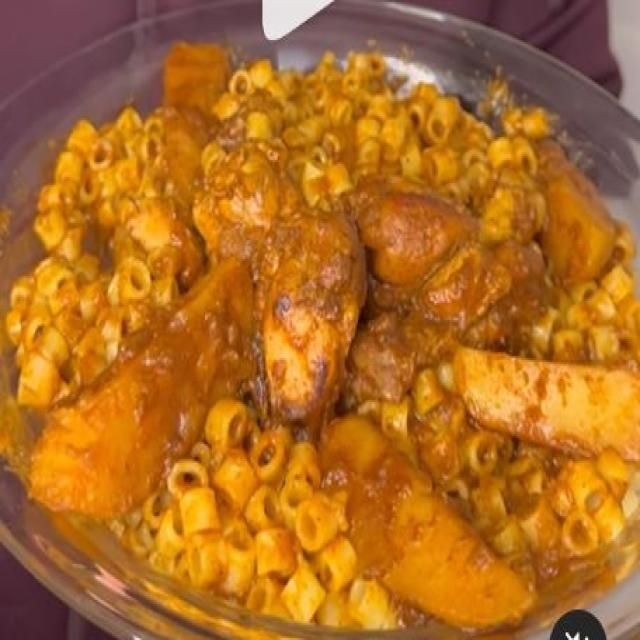Pasta: (8, 56, 640, 619)
